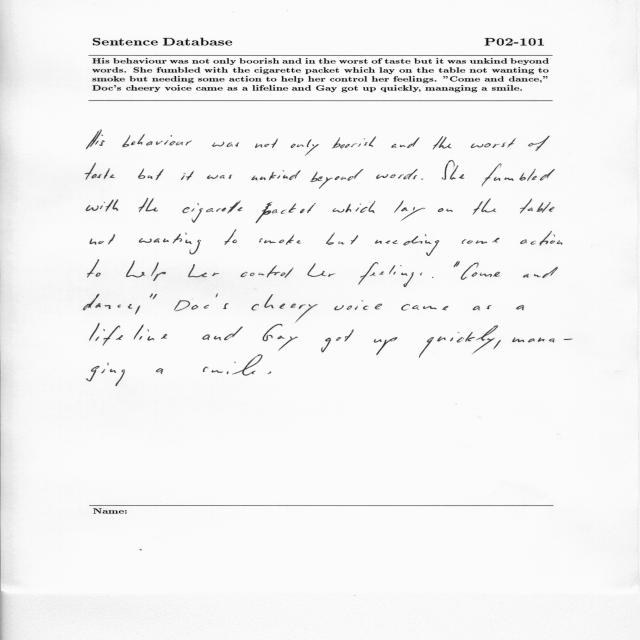word: (419, 325, 498, 358), (251, 294, 318, 322), (90, 323, 167, 346), (482, 163, 555, 187), (359, 262, 423, 287), (375, 234, 439, 256), (183, 200, 243, 223), (139, 233, 201, 255), (256, 202, 316, 223), (203, 355, 262, 376), (311, 169, 364, 189), (263, 324, 298, 351), (174, 294, 228, 311), (122, 134, 192, 147), (87, 363, 125, 386), (126, 261, 166, 282), (84, 294, 133, 311), (321, 330, 354, 353), (461, 262, 500, 280), (241, 266, 294, 279), (394, 200, 425, 221), (520, 231, 563, 245), (202, 327, 243, 341), (332, 136, 376, 148), (333, 201, 376, 213), (85, 163, 115, 180), (520, 199, 554, 214), (251, 171, 301, 181), (335, 300, 383, 310), (291, 139, 319, 156), (471, 138, 516, 148), (442, 160, 464, 180), (374, 337, 398, 355), (376, 169, 418, 179), (259, 235, 301, 245), (473, 198, 497, 215), (189, 265, 220, 278), (86, 200, 119, 212), (308, 263, 336, 277), (523, 267, 558, 278), (326, 233, 358, 245), (135, 294, 153, 315), (87, 130, 105, 149), (528, 136, 550, 151), (402, 304, 449, 311), (392, 137, 420, 148), (512, 338, 573, 343), (138, 169, 163, 180), (90, 234, 115, 245), (139, 198, 158, 212), (87, 260, 101, 278), (255, 138, 278, 148), (462, 238, 500, 244), (224, 230, 237, 245), (439, 137, 452, 148), (213, 142, 240, 147), (433, 136, 443, 149), (207, 174, 232, 179), (181, 171, 194, 180), (473, 305, 491, 310), (494, 340, 501, 349), (438, 208, 453, 212), (156, 368, 163, 374), (516, 305, 524, 310), (454, 261, 460, 267), (153, 294, 157, 299), (268, 371, 272, 374), (421, 178, 423, 180), (432, 277, 433, 278)
